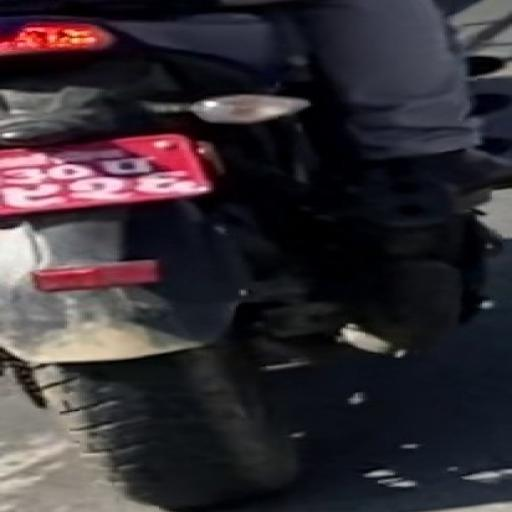license_plate: (0, 130, 229, 223)
